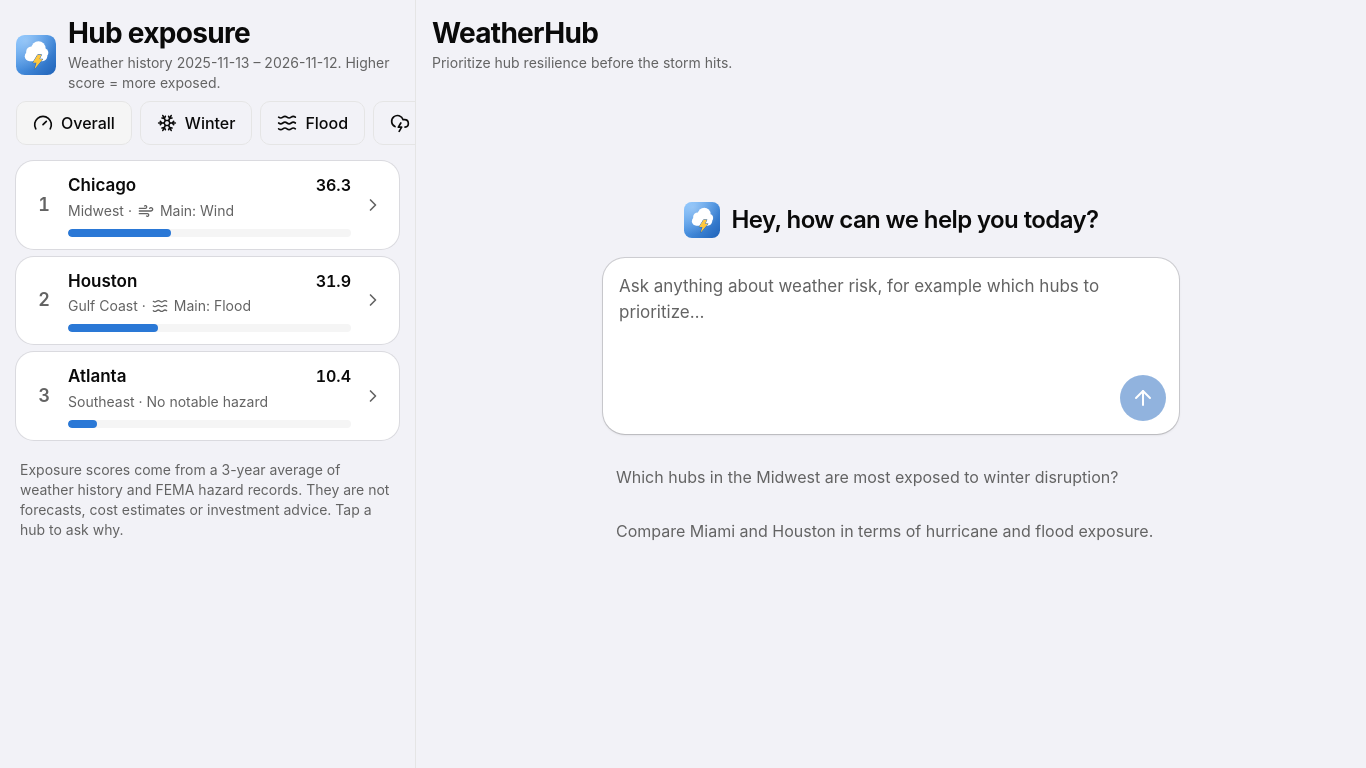
Test: Chat › opens the chat and asks why when a hub is tapped
The image size is (1366, 768).
Click the button with aria-label "Chicago, rank 1" at (208, 205), box [16,161,399,248]
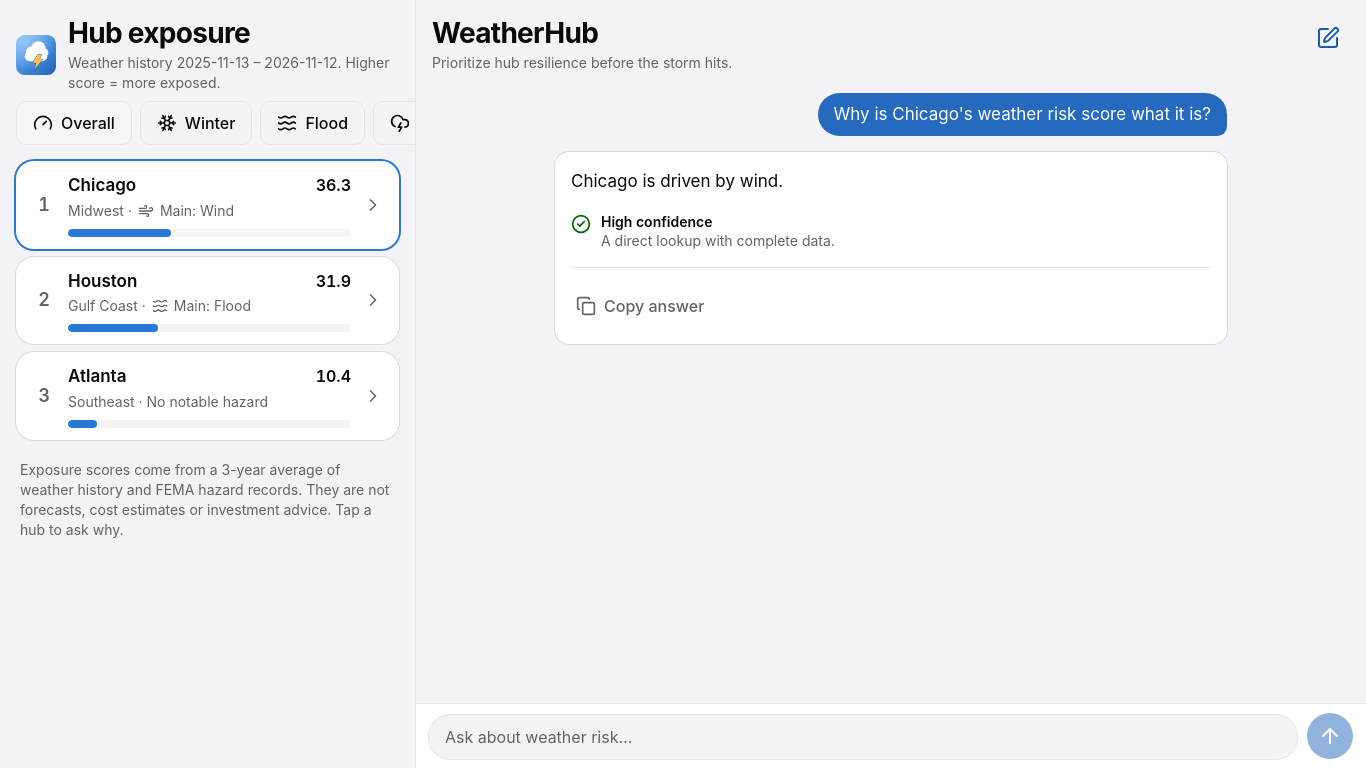
Check: the text "Chicago is driven by wind." is shown, box [571,171,783,191]
